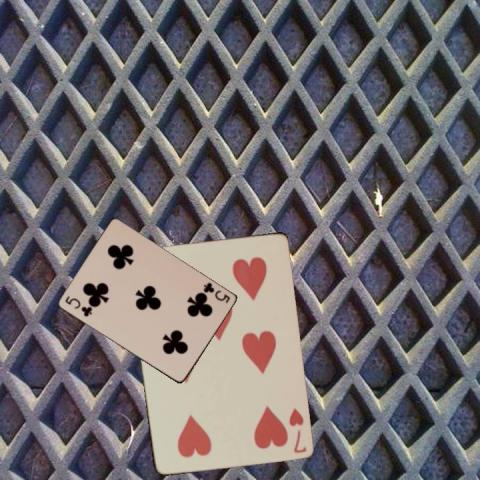5c: (200, 279, 231, 305), (62, 293, 93, 318)
7h: (286, 405, 308, 454)
